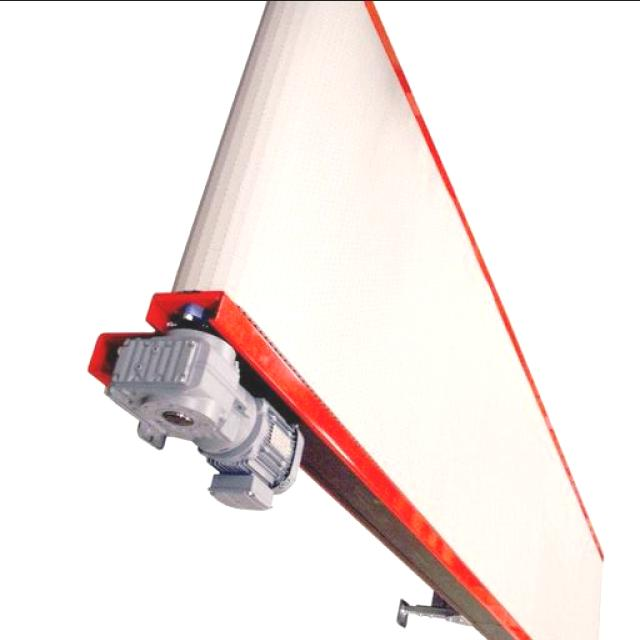conveyor: (159, 0, 608, 640)
